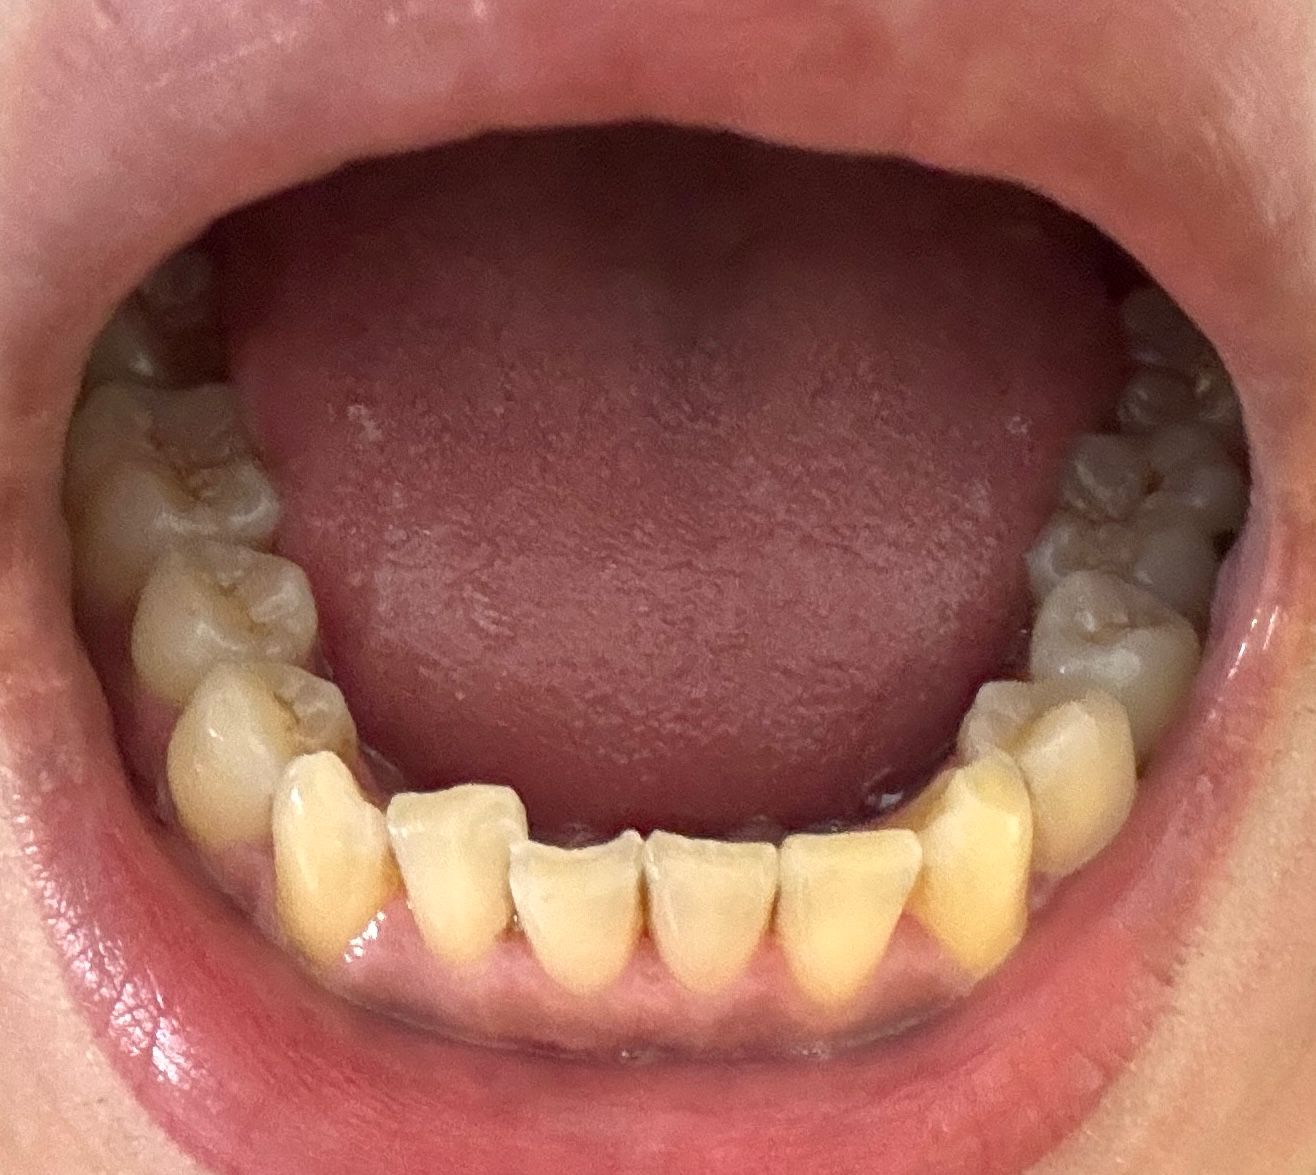teeth: (75, 386, 276, 614), (970, 675, 1137, 871), (172, 662, 349, 844), (895, 744, 1030, 971), (1035, 567, 1193, 753), (134, 539, 317, 692), (273, 756, 399, 956), (775, 830, 912, 1007), (511, 832, 640, 999), (644, 832, 770, 994), (394, 787, 512, 955)
